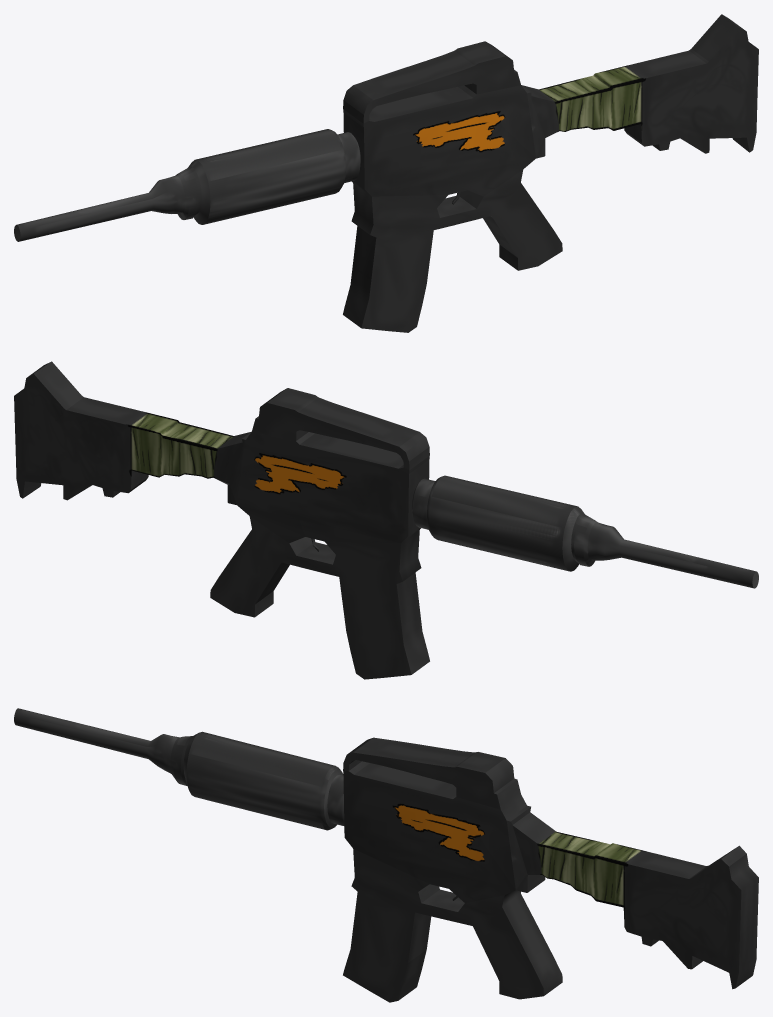
File: gun.fbx
3 renders of one model, top to bottom at view 1: azimuth 30°, elevation 25°; view 2: azimuth 150°, elevation 25°; view 3: azimuth 330°, elevation 25°, orthographic.
Visible parts, largest first — view 1: gun; view 2: gun; view 3: gun.
Part boxes in pixels (x1,y1,x2,y2): gun: (14, 14, 758, 332); gun: (14, 361, 758, 679); gun: (14, 708, 758, 1002).
Bounding box in the file's own units: 4.79 × 1.58 × 0.2716.
Materials: 1 (1 with a texture image).
